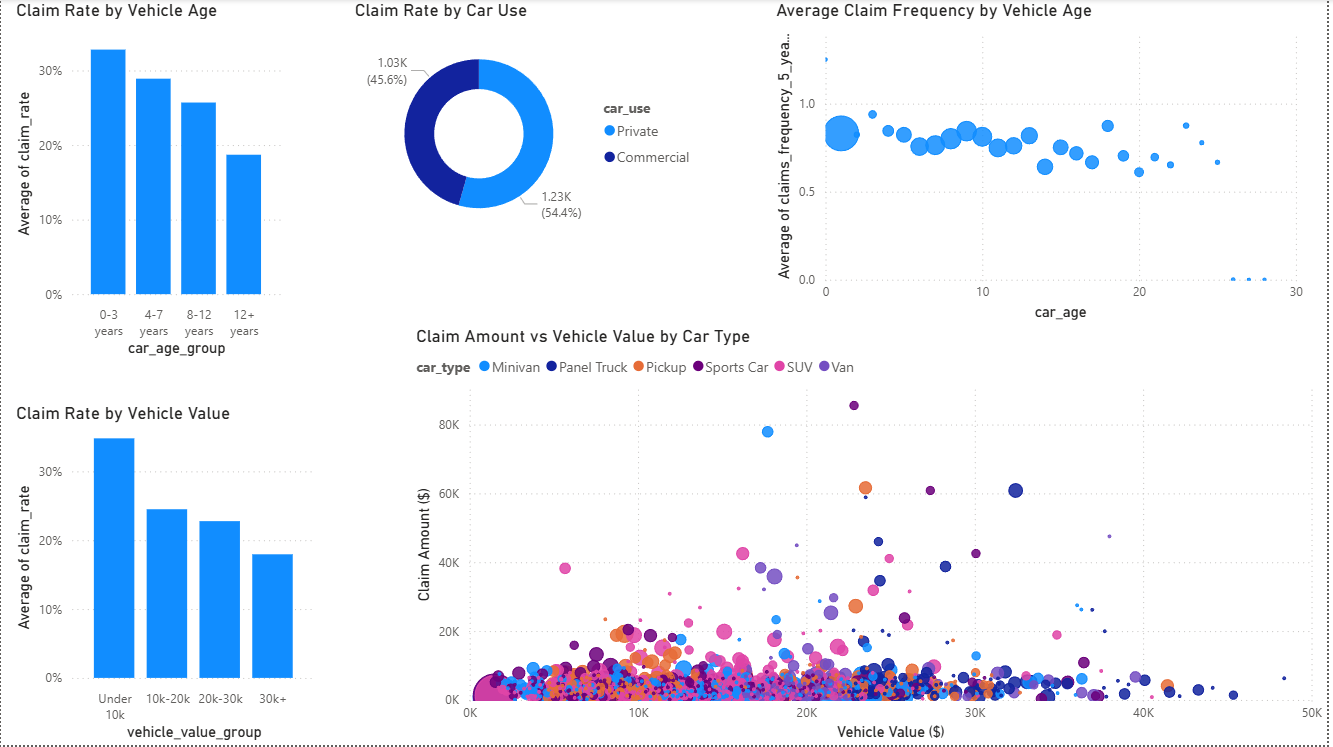

The page's visual inventory and layout, read from the dashboard file:
{"tool":"powerbi","page":{"name":"Vehicle Risk","canvas":[1280,720],"ordinal":2},"visuals":[{"type":"clusteredColumnChart","title":"Claim Rate by Vehicle Age","fields":{"Category":["claim_rate_by_car_age.car_age_group"],"Y":["Avg(claim_rate_by_car_age.claim_rate)"]},"box":[9.7,0,265.4,349.9],"z":0},{"type":"donutChart","title":"Claim Rate by Car Use","fields":{"Category":["claim_rate_by_car_use.car_use"],"Y":["Avg(claim_rate_by_car_use.total_claims)"]},"box":[336.6,0,342.6,241.3],"z":1000},{"type":"clusteredColumnChart","title":"Claim Rate by Vehicle Value","fields":{"Category":["claim_rate_by_vehicle_value_group.vehicle_value_group"],"Y":["Avg(claim_rate_by_vehicle_value_group.claim_rate)"]},"box":[9.7,389.7,299.2,330.6],"z":2000},{"type":"scatterChart","title":"Claim Amount vs Vehicle Value by Car Type","fields":{"X":["insurance_policies.vehicle_value"],"Y":["Avg(insurance_policies.claims_amount)"],"Size":["Sum(insurance_policies.claims_frequency_5_years)"],"Series":["insurance_policies.car_type"]},"box":[395.7,314.9,884.3,405.4],"z":3000},{"type":"scatterChart","title":"Average Claim Frequency by Vehicle Age","fields":{"X":["insurance_policies.car_age"],"Y":["Avg(insurance_policies.claims_frequency_5_years)"],"Size":["Sum(insurance_policies.vehicle_value)"]},"box":[743.2,0,518.8,314.9],"z":4000}]}

Visuals, with their boxes in screenshot pixels (x1, y1, x2, y2), scaled from the page's 1280x720 canvas onto the 1333x747 screenshot:
"Claim Rate by Vehicle Age" clusteredColumnChart: (10, 0, 286, 363)
"Claim Rate by Car Use" donutChart: (351, 0, 707, 250)
"Claim Rate by Vehicle Value" clusteredColumnChart: (10, 404, 322, 746)
"Claim Amount vs Vehicle Value by Car Type" scatterChart: (412, 327, 1332, 746)
"Average Claim Frequency by Vehicle Age" scatterChart: (774, 0, 1314, 327)
